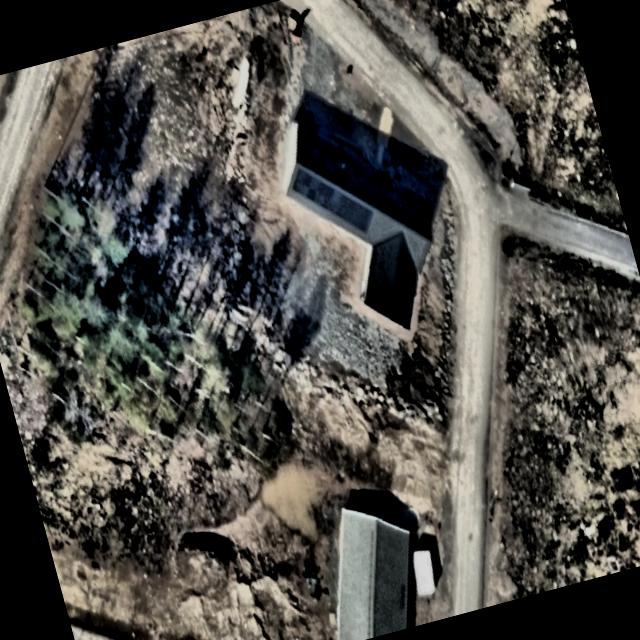roof_pv: (312, 187, 378, 245), (282, 154, 345, 208)
